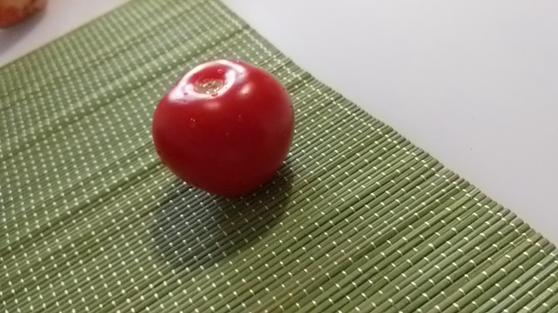tomato: (152, 60, 294, 193)
